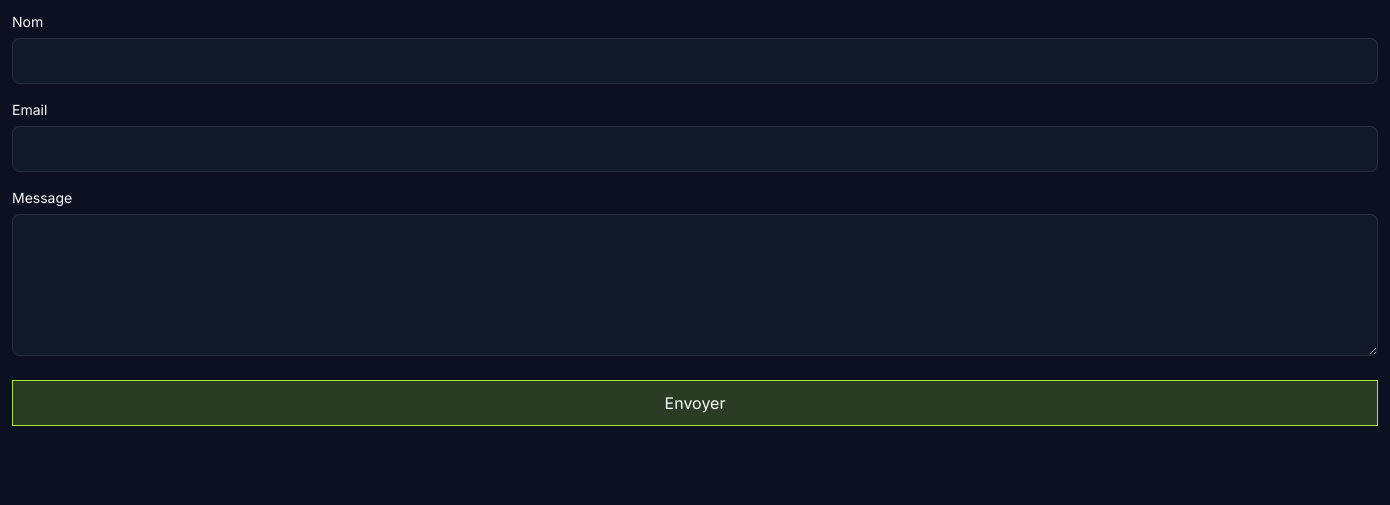
it: ContactForm › affiche un message de succès après un envoi réussi
This screenshot has width=1390, height=505.
Type "Killian Gayez" into the field labelled "Nom" at (695, 61), box [12,38,1378,84]
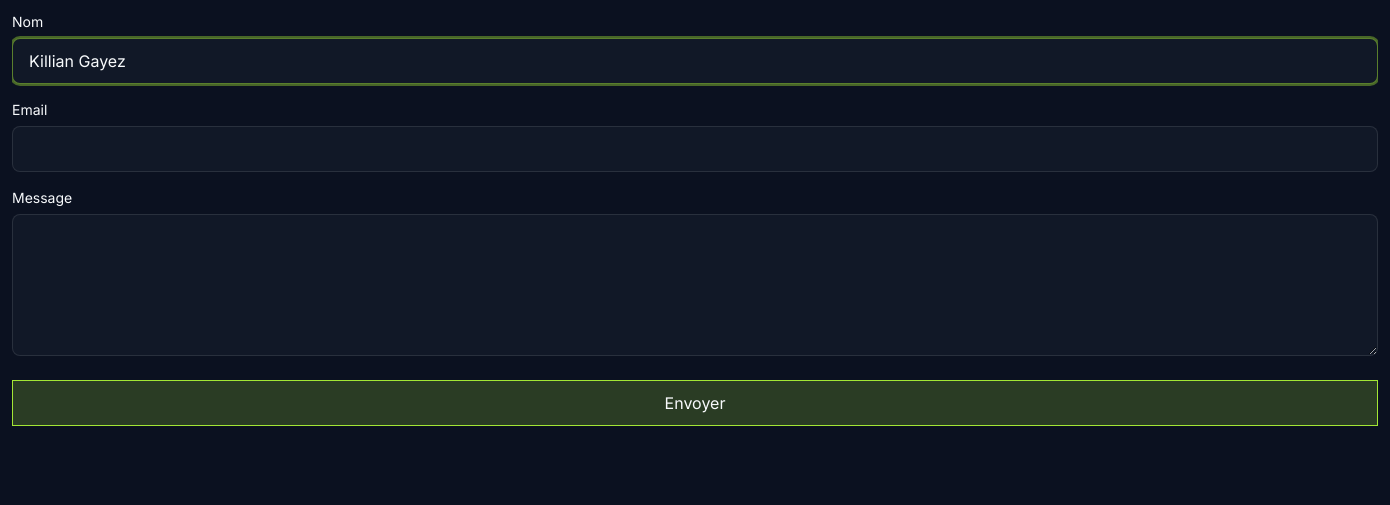
Type "killian@example.com" into the field labelled "Email" at (695, 149), box [12,126,1378,172]
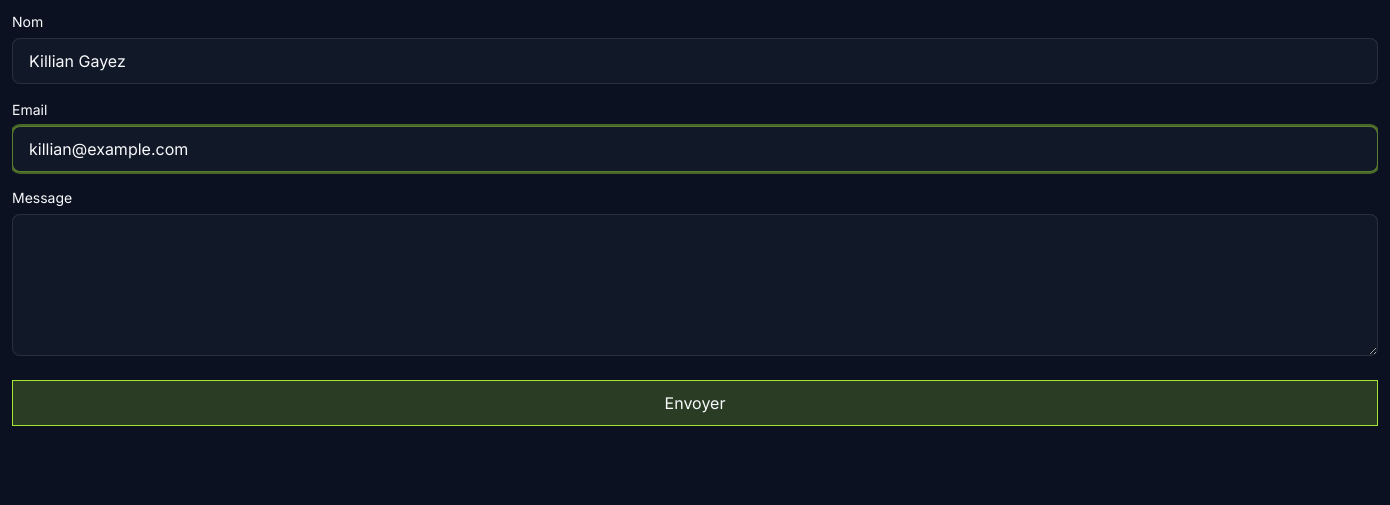
Type "Bonjour, je souhaite échanger avec vous." into the text box labelled "Message" at (695, 285), box [12,214,1378,356]
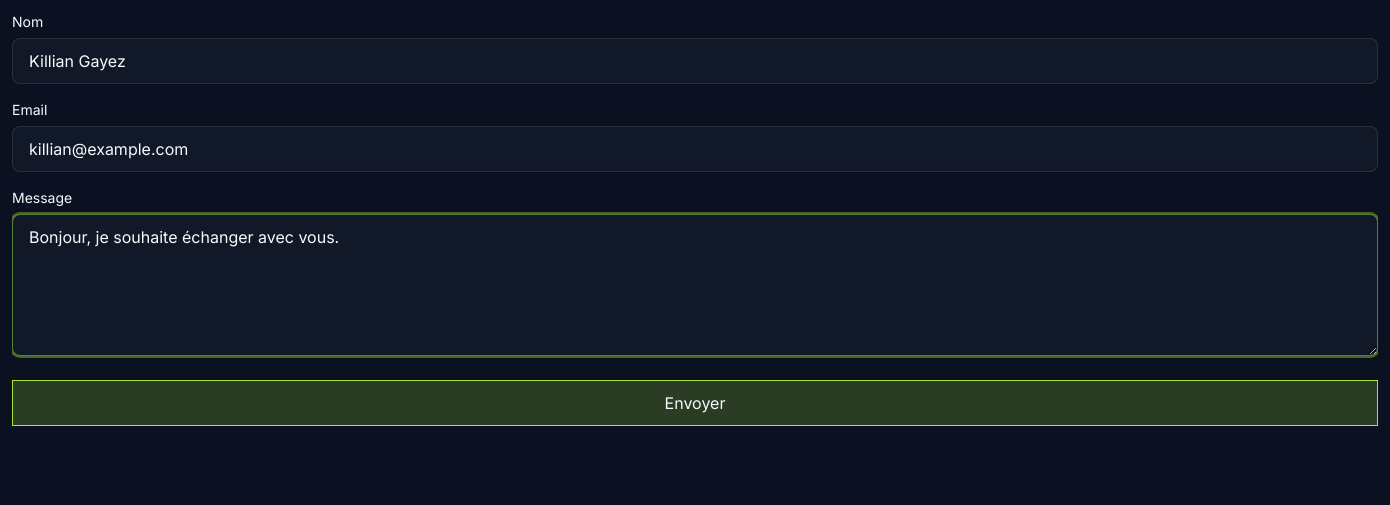
Click the button "Envoyer" at (695, 403), box [12,380,1378,426]
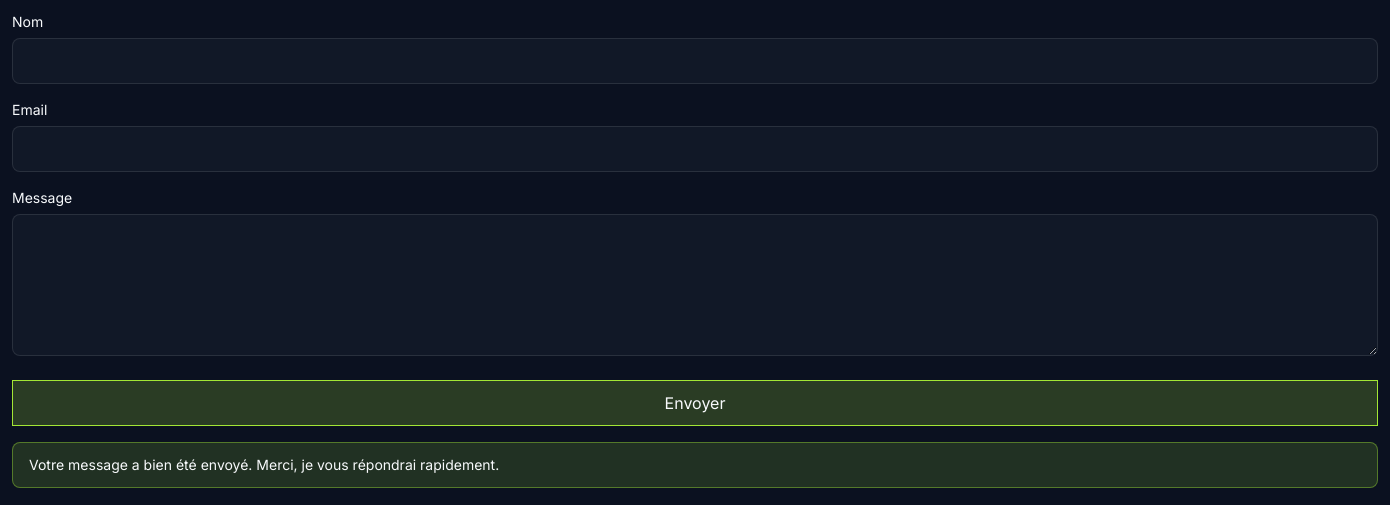
Now the text "Votre message a bien été envoyé. Merci, je vous répondrai rapidement." is shown, box [12,442,1378,488]
